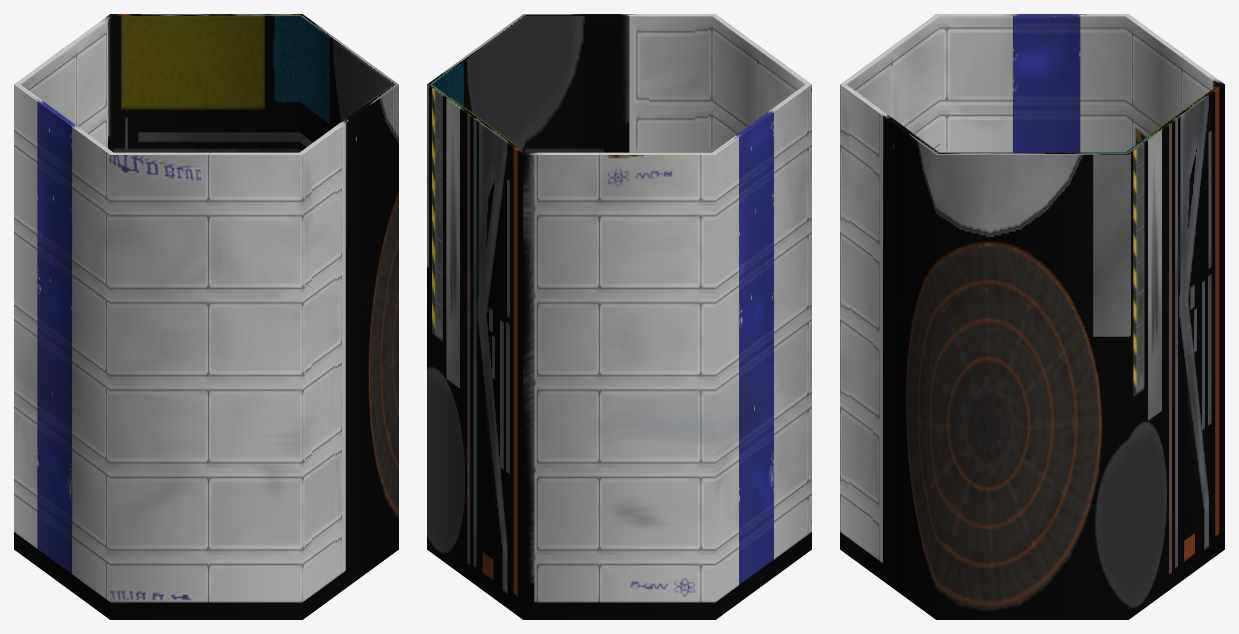
Rendered from TrussTest.FBX.
The picture shows the model from 3 angles, left to right: view 1: azimuth 30°, elevation 25°; view 2: azimuth 150°, elevation 25°; view 3: azimuth 270°, elevation 25°; orthographic projection.
Parts seen in each view (by area): view 1: Tube001; view 2: Tube001; view 3: Tube001.
Part boxes in pixels (box(x1,y1,x2,y2)): Tube001: box(14, 14, 398, 619); Tube001: box(427, 14, 811, 619); Tube001: box(840, 14, 1224, 619).
Bounding box in the file's own units: 2.6 × 3 × 4.
1 material, 1 textured.
